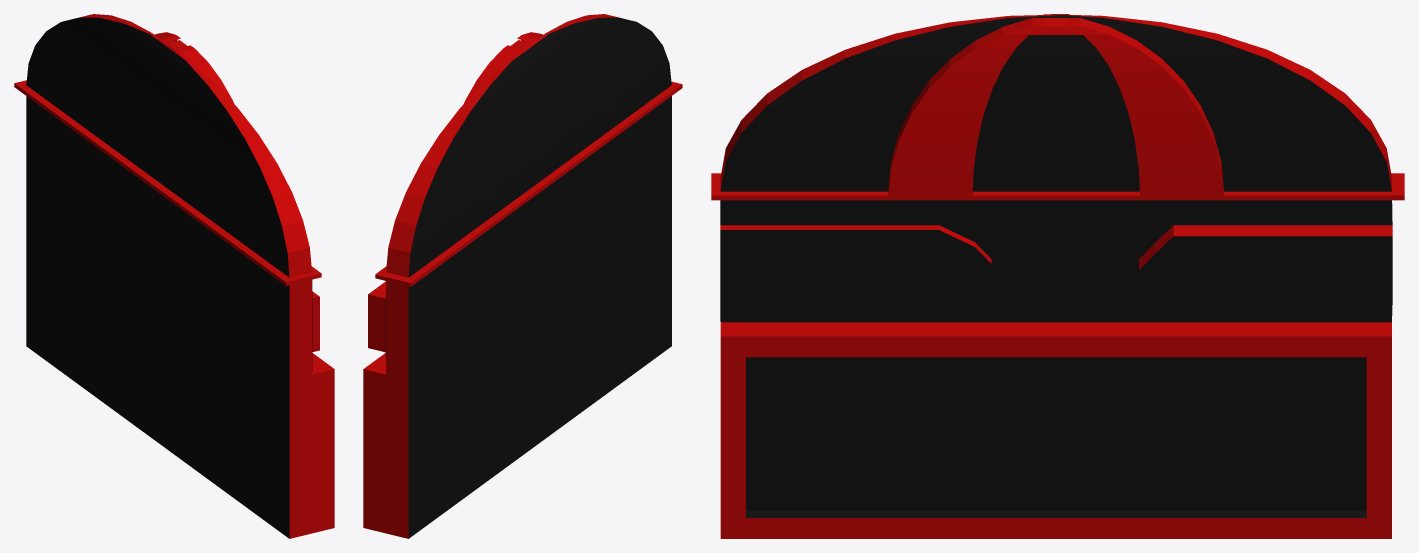
The model's file is Kareoke Sign.fbx.
The picture shows the model from 3 angles, left to right: view 1: azimuth 30°, elevation 25°; view 2: azimuth 150°, elevation 25°; view 3: azimuth 270°, elevation 25°; orthographic projection. The views are drawn at different scales.
Visible parts, largest first — view 1: Cube (×2); view 2: Cube (×2); view 3: Cube (×2).
Part boxes in pixels (x1,y1,x2,y2): Cube (×2): (14,14,334,538); Cube (×2): (363,14,682,538); Cube (×2): (711,14,1404,538).
Size of the model in its own units: 77.5 by 559 by 697.
